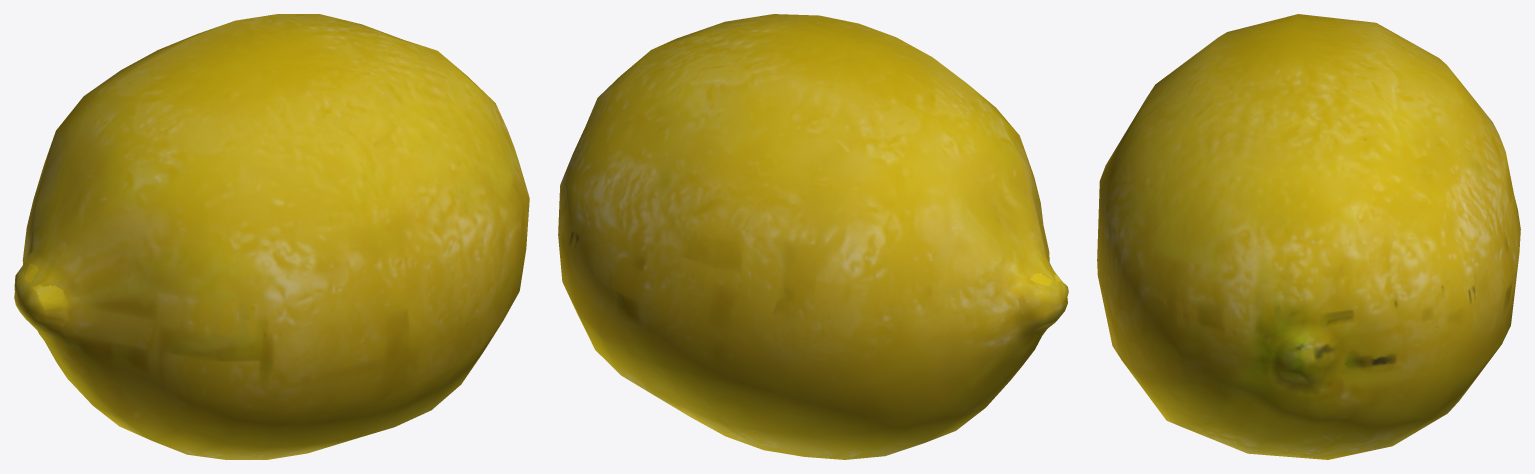
File: 014_lemon.dae
3 renders of one model, left to right at view 1: azimuth 30°, elevation 25°; view 2: azimuth 150°, elevation 25°; view 3: azimuth 270°, elevation 25°, orthographic.
Visible parts, largest first — view 1: 014_lemon; view 2: 014_lemon; view 3: 014_lemon.
Boxes of the visible parts, <box> form: 014_lemon: <box>14,14,529,459</box>; 014_lemon: <box>558,14,1068,459</box>; 014_lemon: <box>1097,14,1520,459</box>.
Bounding box in the file's own units: 0.0689 × 0.0523 × 0.0531.
1 material, 1 textured.
